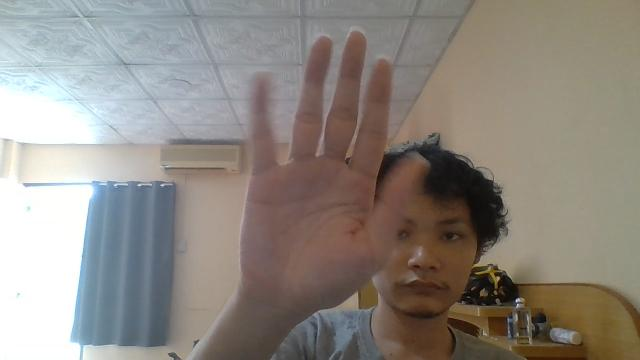Stop: (238, 28, 394, 318)
